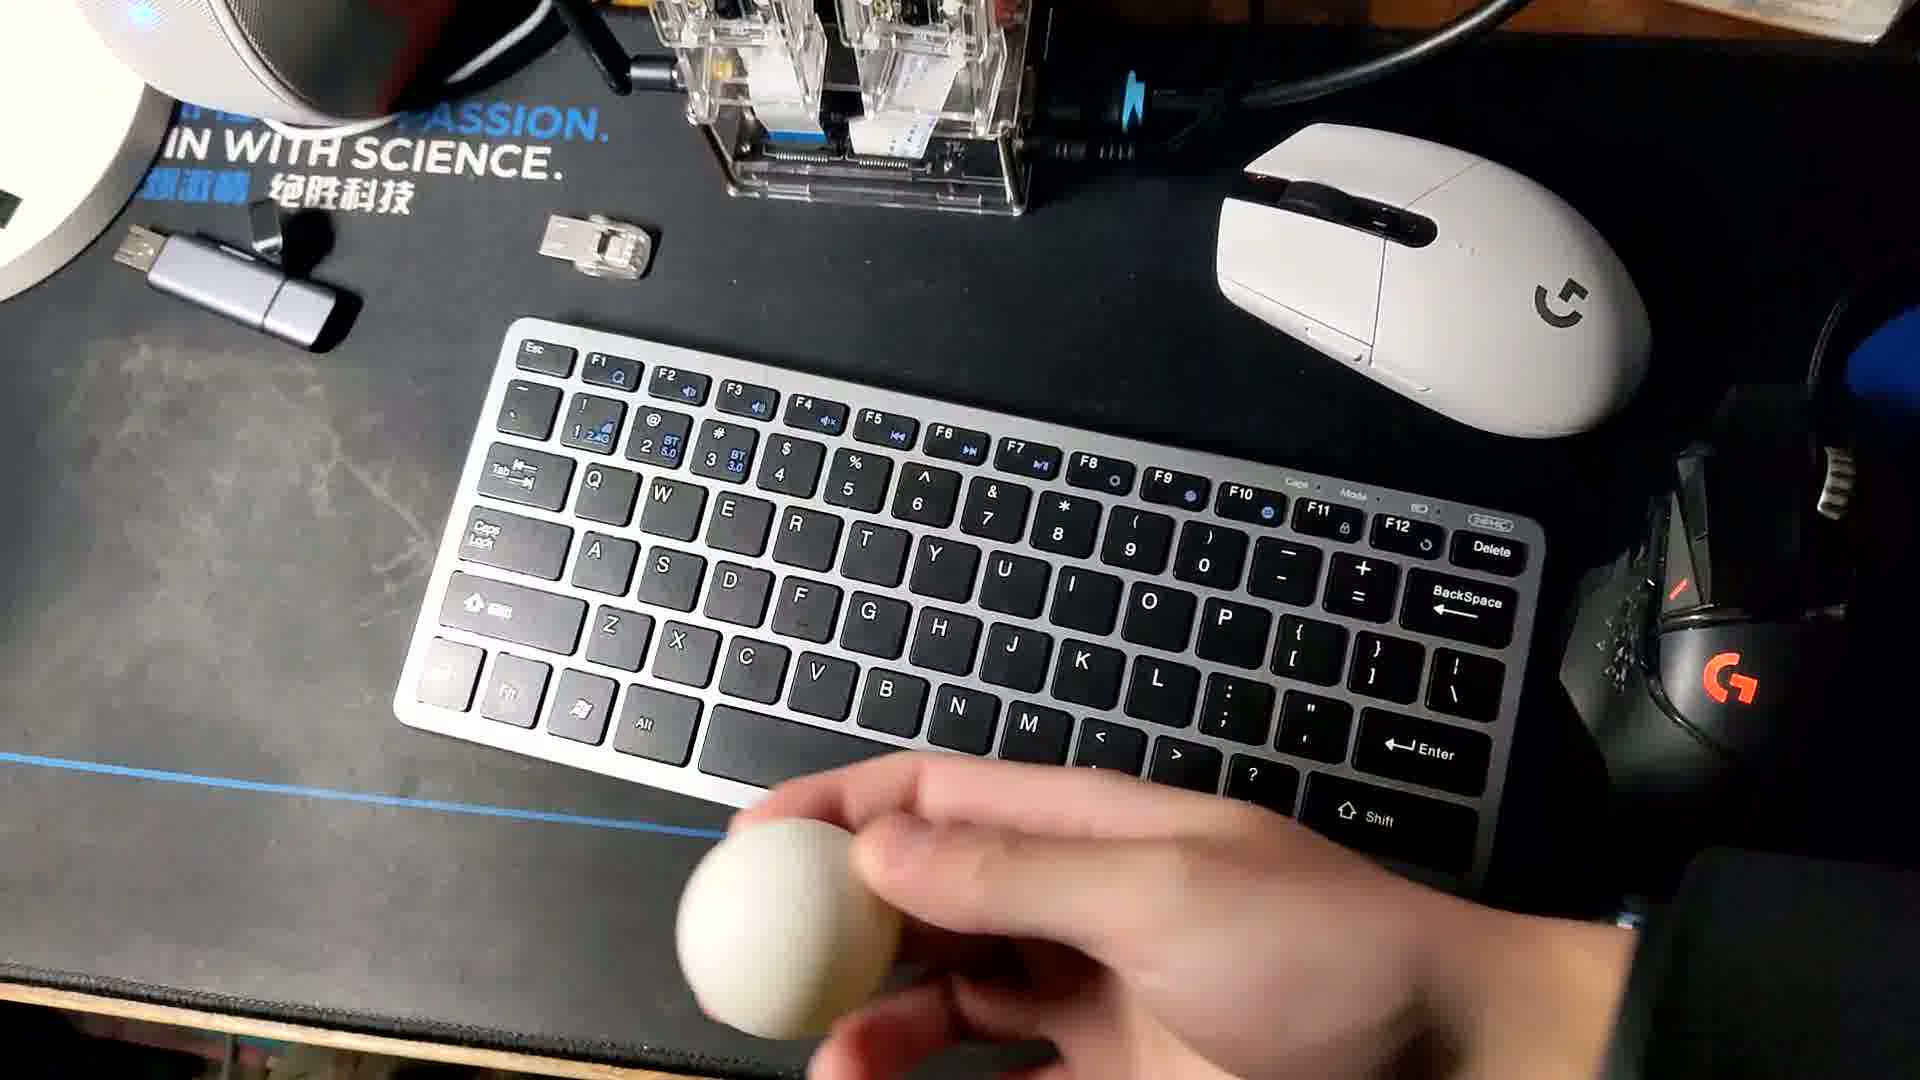Ball: (676, 814, 905, 1050)
